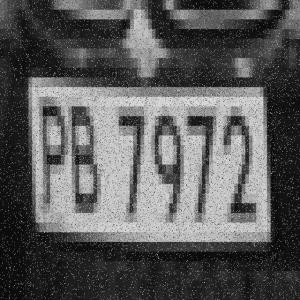Plate: (26, 71, 274, 246)
